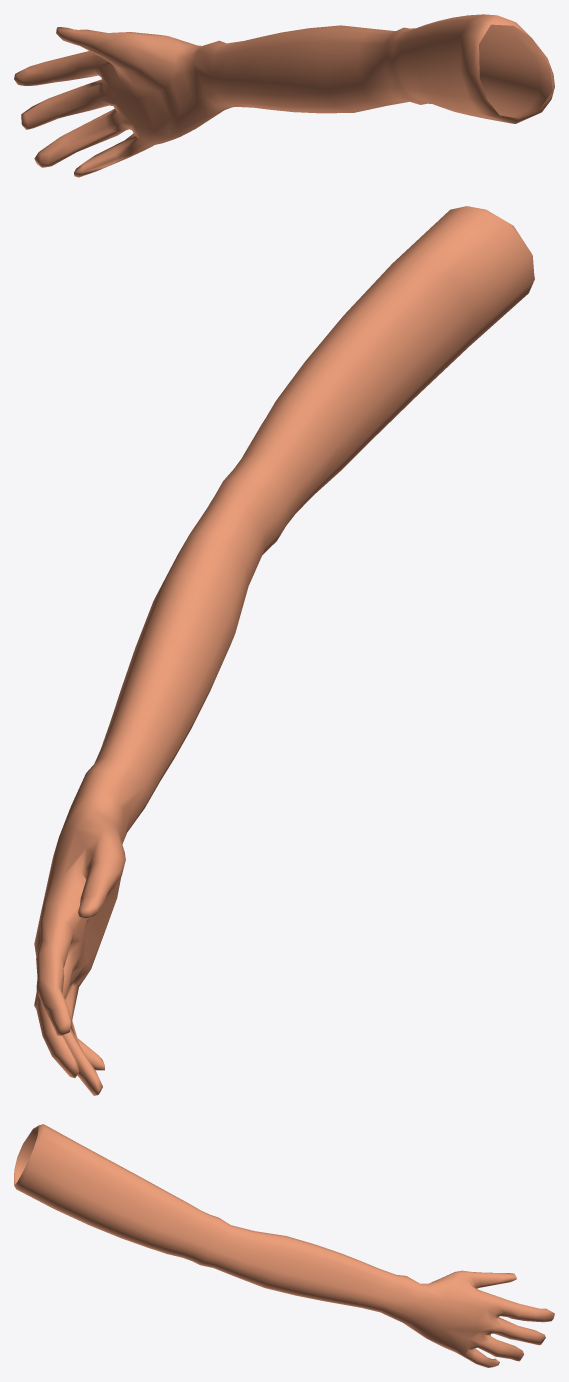
Rendered from hand.fbx.
3 views of the same model, one above another, from view 1: azimuth 30°, elevation 25°; view 2: azimuth 150°, elevation 25°; view 3: azimuth 270°, elevation 25° (orthographic). The views are drawn at different scales.
Visible parts, largest first — view 1: theooo-base.003; view 2: theooo-base.003; view 3: theooo-base.003.
Boxes of the visible parts, bbox=[...] form: theooo-base.003: bbox=[14, 14, 554, 177]; theooo-base.003: bbox=[34, 206, 534, 1095]; theooo-base.003: bbox=[14, 1124, 554, 1367].
Size of the model in its own units: 5.34 by 12.81 by 24.29.
